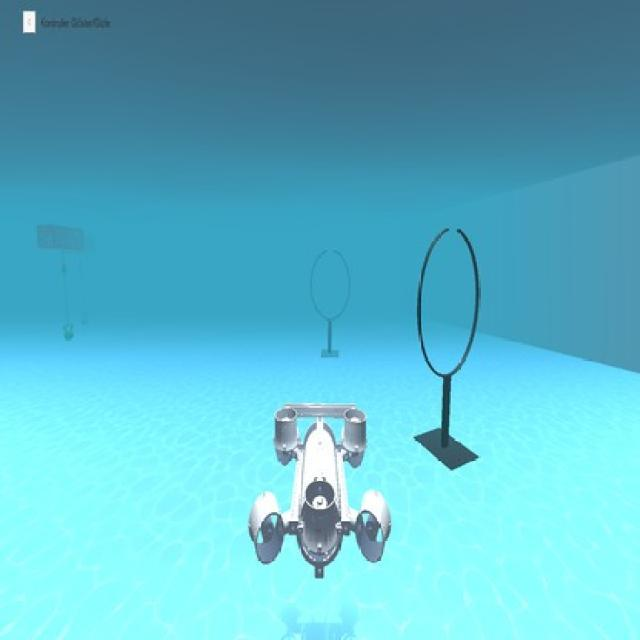Circle: (414, 224, 486, 379), (306, 248, 356, 322)
